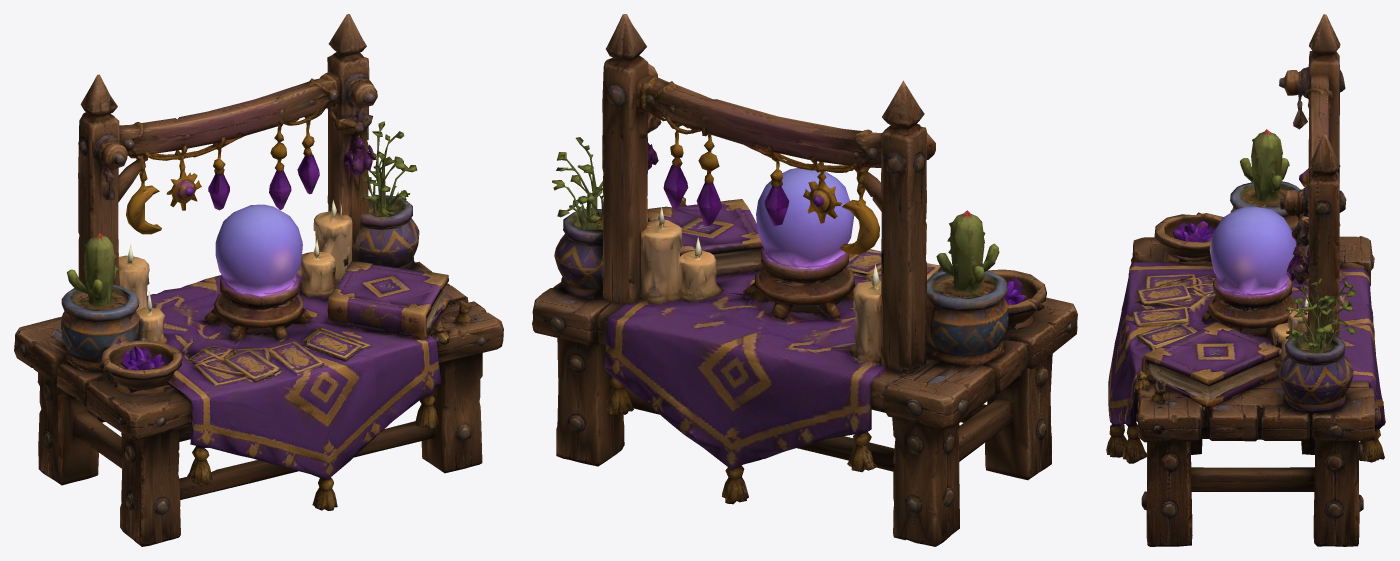
The model's file is bola_de_cristal_magica.glb.
3 renders of one model, left to right at view 1: azimuth 30°, elevation 25°; view 2: azimuth 150°, elevation 25°; view 3: azimuth 270°, elevation 25°, orthographic. The views are drawn at different scales.
Parts seen in each view (by area): view 1: bola_de_cristal_magica; view 2: bola_de_cristal_magica; view 3: bola_de_cristal_magica.
Boxes of the visible parts, x1=… form: bola_de_cristal_magica: x1=14, y1=14, x2=503, y2=546; bola_de_cristal_magica: x1=532, y1=14, x2=1077, y2=546; bola_de_cristal_magica: x1=1106, y1=14, x2=1385, y2=546.
Size of what is drawn, in the model's own units: 0.9081 by 0.9009 by 0.5817.
Materials: 1 (1 with a texture image).
